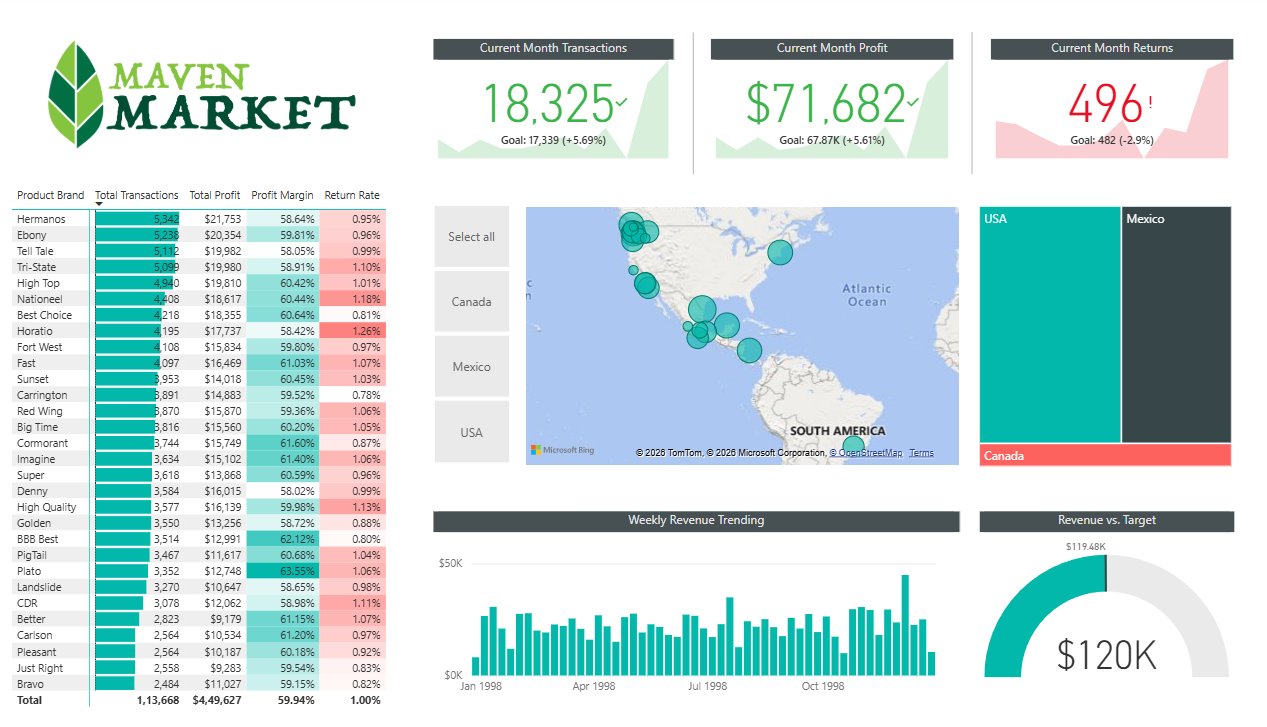

This screenshot's page, from the dashboard's own definition file:
{"tool":"powerbi","page":{"name":"Topline Performance","canvas":[1280,720],"ordinal":0},"visuals":[{"type":"image","box":[40,7.5,346.6,132.7],"z":0},{"type":"pivotTable","fields":{"Rows":["Products.product_brand"],"Values":["Transaction_Data.Total Transactions","Transaction_Data.Total Profit","Transaction_Data.Profit Margin","Return_Data.Return Rate"]},"box":[20.6,161.3,401.5,536],"z":1000},{"type":"kpi","title":"Current Month Transactions","fields":{"Goal":["Transaction_Data.Last Month Transactions"],"Indicator":["Transaction_Data.Total Transactions"],"TrendLine":["Calendar.Start of Month"]},"box":[445.9,19,240.2,124.7],"z":2000},{"type":"kpi","title":"Current Month Profit","fields":{"Goal":["Transaction_Data.Last Month Profit"],"Indicator":["Transaction_Data.Total Profit"],"TrendLine":["Calendar.Start of Month"]},"box":[723.3,19,242.5,124.7],"z":3000},{"type":"kpi","title":"Current Month Returns","fields":{"Goal":["Return_Data.Last Month Returns"],"Indicator":["Return_Data.Total Returns"],"TrendLine":["Calendar.Start of Month"]},"box":[1003,19,242.5,124.7],"z":4000},{"type":"map","fields":{"Category":["Stores.store_city"],"Size":["Transaction_Data.Total Transactions"]},"box":[532.8,182.5,442.7,266.5],"z":5000},{"type":"slicer","fields":{"Values":["Stores.store_country"]},"box":[420.5,178.9,124.7,270],"z":6000},{"type":"columnChart","title":"Weekly Revenue Trending","fields":{"Category":["Calendar.Start of Week"],"Y":["Transaction_Data.Total Revenue"]},"box":[445.9,490,525.3,192.2],"z":7000},{"type":"gauge","title":"Revenue vs. Target","fields":{"TargetValue":["Transaction_Data.Revenue Target"],"Y":["Transaction_Data.Total Revenue"]},"box":[991.1,490,254.4,171.6],"z":8000},{"type":"basicShape","box":[671.7,2.9,67.5,161.3],"z":9000},{"type":"basicShape","box":[950.3,2.9,67.5,161.3],"z":10000},{"type":"treemap","fields":{"Group":["Stores.store_country","Stores.store_state","Stores.store_city"],"Values":["Transaction_Data.Total Transactions"]},"box":[985.8,181.4,261.9,270],"z":11000}]}

Visuals, with their boxes in screenshot pixels (x1, y1, x2, y2), scaled from the page's 1280x720 canvas onto the 1267x727 screenshot:
image: 40 8 383 142
pivotTable - Products.product_brand x Transaction_Data.Total Transactions: 20 163 418 704
"Current Month Transactions" kpi: 441 19 679 145
"Current Month Profit" kpi: 716 19 956 145
"Current Month Returns" kpi: 993 19 1233 145
map - Stores.store_city x Transaction_Data.Total Transactions: 527 184 966 453
slicer - Stores.store_country: 416 181 540 453
"Weekly Revenue Trending" columnChart: 441 495 961 689
"Revenue vs. Target" gauge: 981 495 1233 668
basicShape: 665 3 732 166
basicShape: 941 3 1007 166
treemap - Stores.store_country x Stores.store_state: 976 183 1235 456
